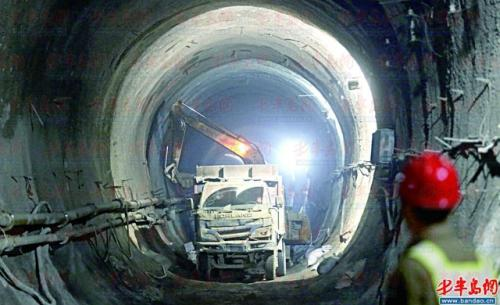hard-hat: (399, 151, 461, 212)
person: (387, 150, 499, 305)
vest: (397, 222, 499, 303)
